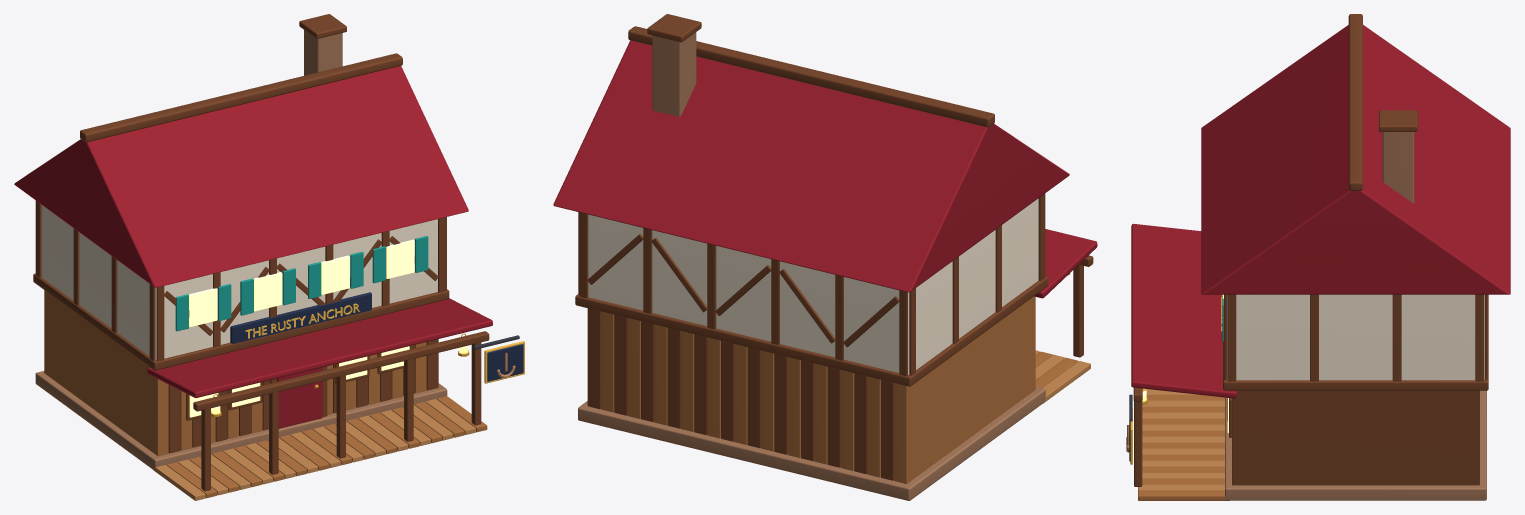
File: cove_tavern.glb
3 views of the same model, side by side, from view 1: azimuth 30°, elevation 25°; view 2: azimuth 150°, elevation 25°; view 3: azimuth 270°, elevation 25° (orthographic). The views are drawn at different scales.
Parts seen in each view (by area): view 1: Tavern; view 2: Tavern; view 3: Tavern.
Part boxes in pixels (x1,y1,x2,y2): Tavern: (14,14,524,500); Tavern: (553,14,1097,500); Tavern: (1126,14,1510,500).
Bounding box in the file's own units: 12.06 × 11.2 × 10.85.
